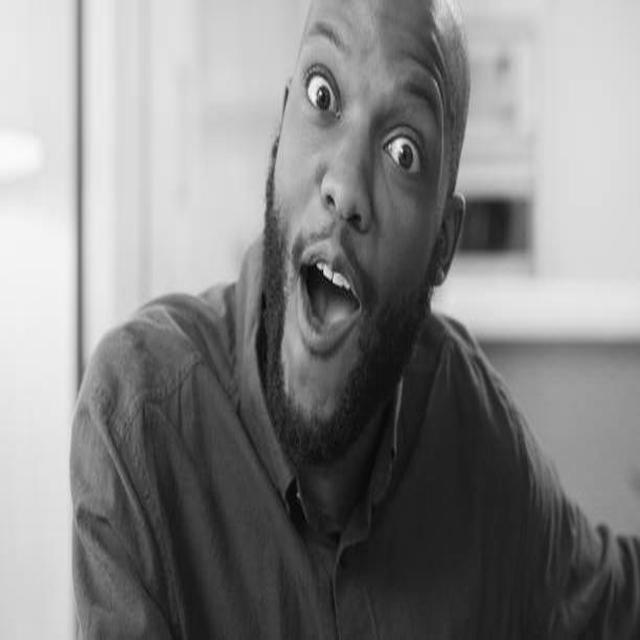Surprised: (262, 0, 470, 467)
